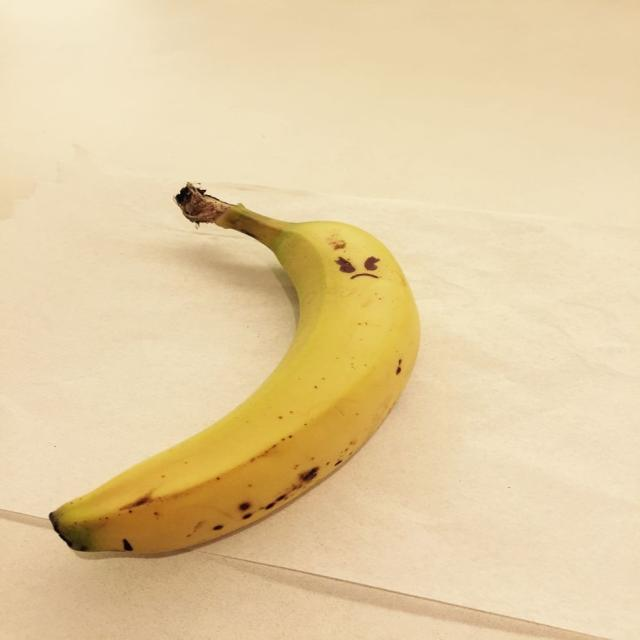unpeal banana: (50, 184, 419, 553)
